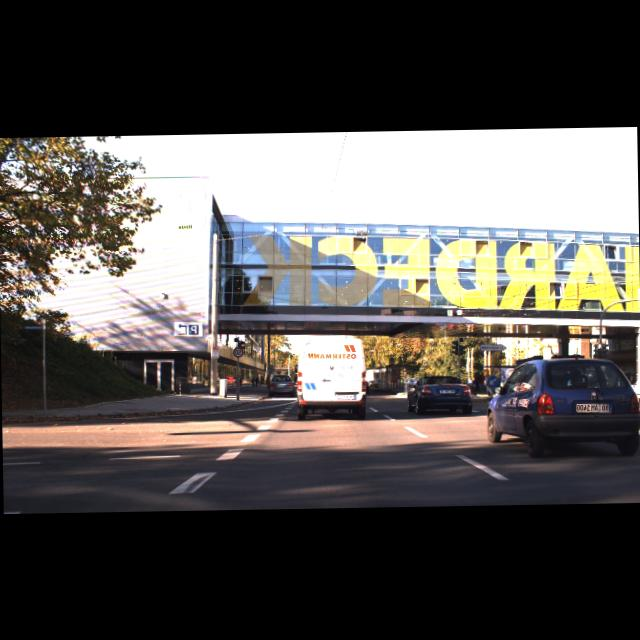mandatory: (486, 374, 499, 388)
prohibitory: (232, 346, 243, 357)
